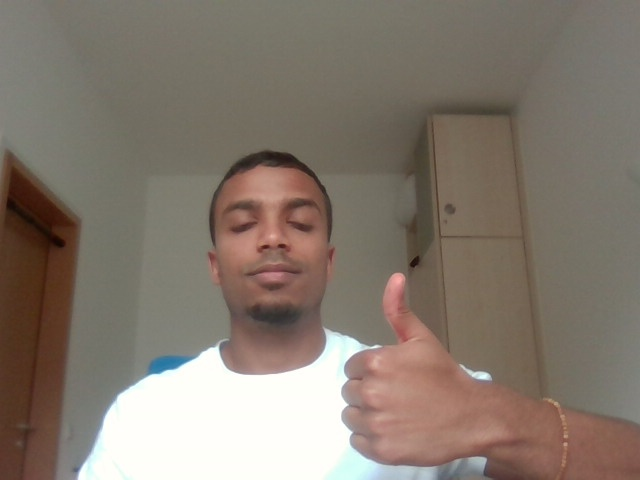yes: (333, 264, 503, 479)
